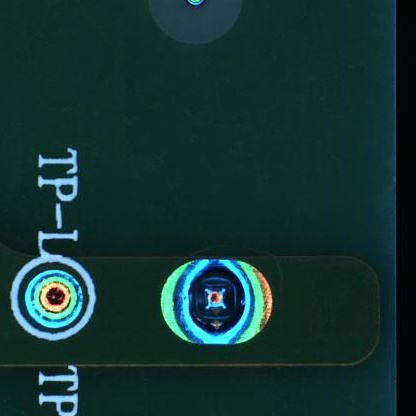spot: (148, 252, 275, 351), (17, 261, 88, 334)
